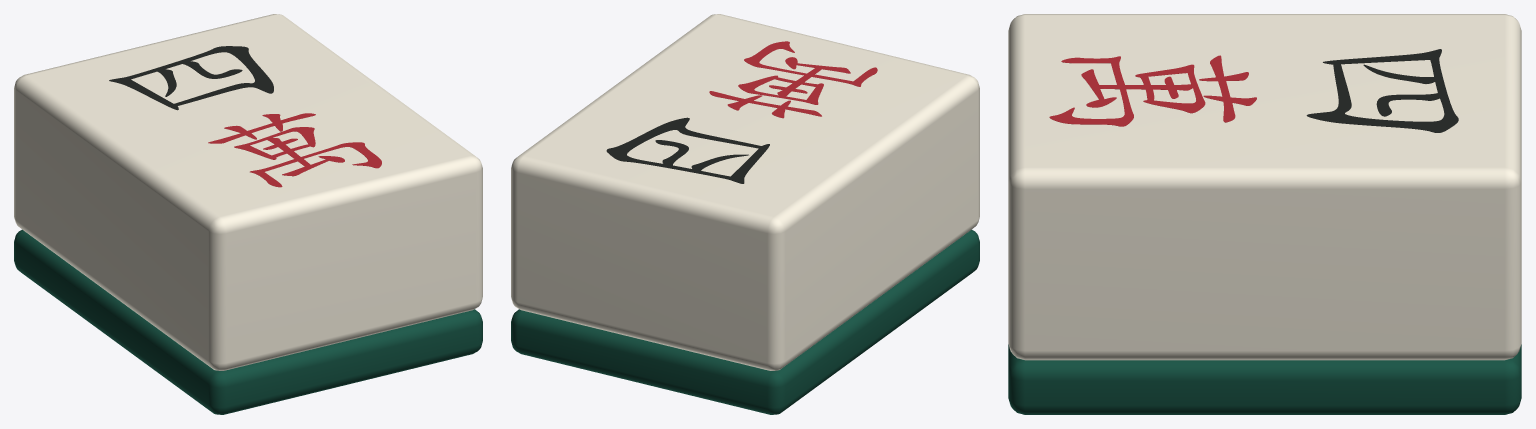
Rendered from wan-04.glb.
The picture shows the model from 3 angles, left to right: view 1: azimuth 30°, elevation 25°; view 2: azimuth 150°, elevation 25°; view 3: azimuth 270°, elevation 25°; orthographic projection. The views are drawn at different scales.
Visible parts, largest first — view 1: wan-04_ivory, wan-04_back, wan-04_face_inlays; view 2: wan-04_ivory, wan-04_back, wan-04_face_inlays; view 3: wan-04_ivory, wan-04_back, wan-04_face_inlays.
Boxes of the visible parts, x1=… form: wan-04_ivory: x1=14, y1=14, x2=482, y2=370; wan-04_back: x1=14, y1=229, x2=482, y2=414; wan-04_face_inlays: x1=109, y1=46, x2=381, y2=187; wan-04_ivory: x1=511, y1=14, x2=979, y2=370; wan-04_back: x1=511, y1=229, x2=979, y2=414; wan-04_face_inlays: x1=606, y1=41, x2=877, y2=183; wan-04_ivory: x1=1008, y1=14, x2=1521, y2=360; wan-04_back: x1=1008, y1=344, x2=1521, y2=414; wan-04_face_inlays: x1=1049, y1=49, x2=1458, y2=132.
Bounding box in the file's own units: 0.026 × 0.018 × 0.034.
